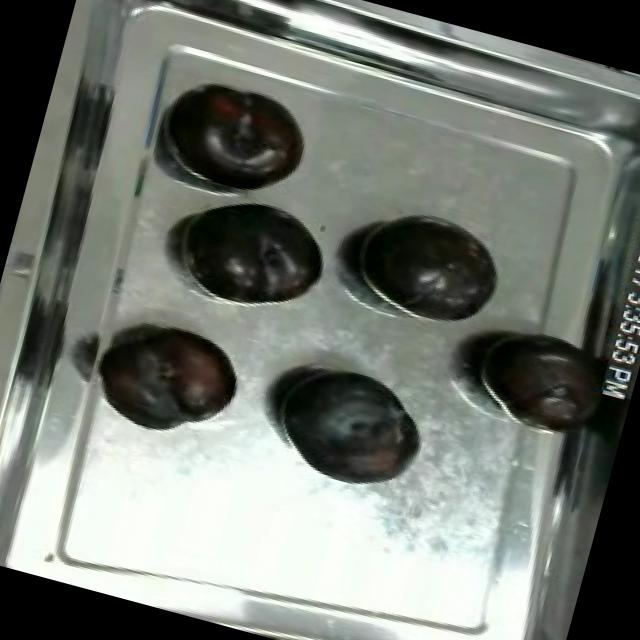Fruit: (251, 347, 435, 502), (165, 178, 342, 324), (336, 195, 514, 338), (147, 68, 321, 210), (89, 307, 253, 442), (456, 310, 616, 446)
